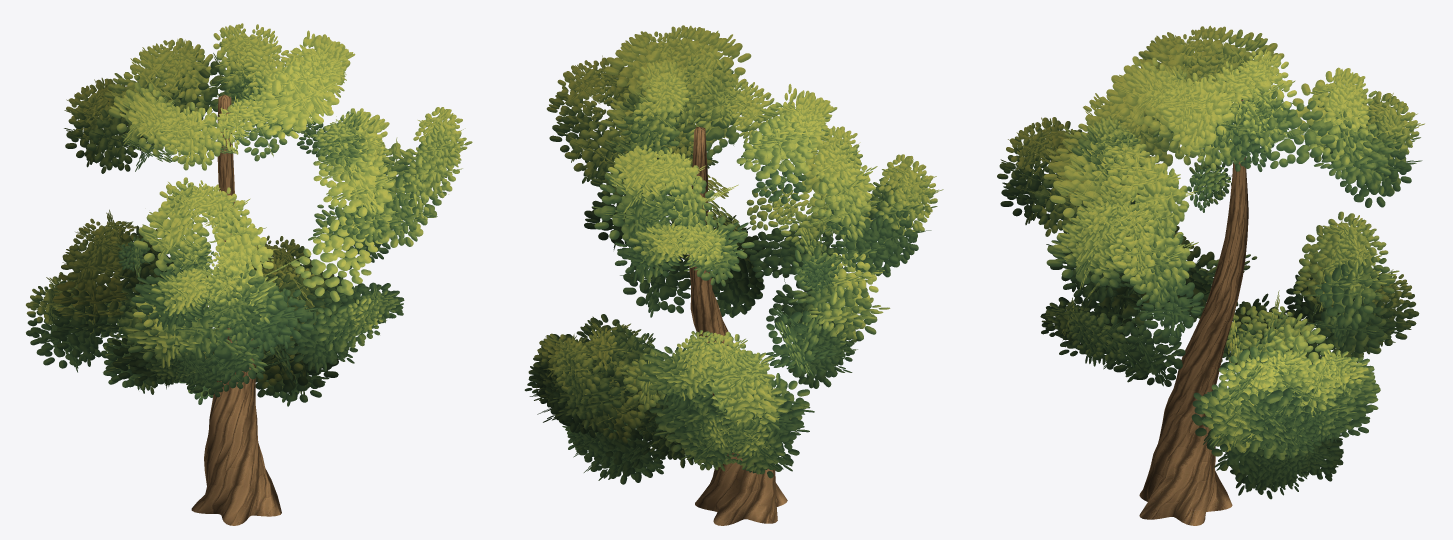
The model's file is tree_spread.glb.
3 views of the same model, side by side, from view 1: azimuth 30°, elevation 25°; view 2: azimuth 150°, elevation 25°; view 3: azimuth 270°, elevation 25° (orthographic). The views are drawn at different scales.
Parts seen in each view (by area): view 1: Canopy, tree_spread; view 2: Canopy, tree_spread; view 3: Canopy, tree_spread.
Part boxes in pixels (x1,y1,x2,y2): Canopy: (26, 23, 472, 406); tree_spread: (191, 94, 281, 525); Canopy: (524, 25, 943, 484); tree_spread: (688, 127, 787, 525); Canopy: (997, 25, 1424, 499); tree_spread: (1139, 100, 1248, 525).
Bounding box in the file's own units: 1.62 × 1.92 × 1.63.
2 materials, 2 textured.
